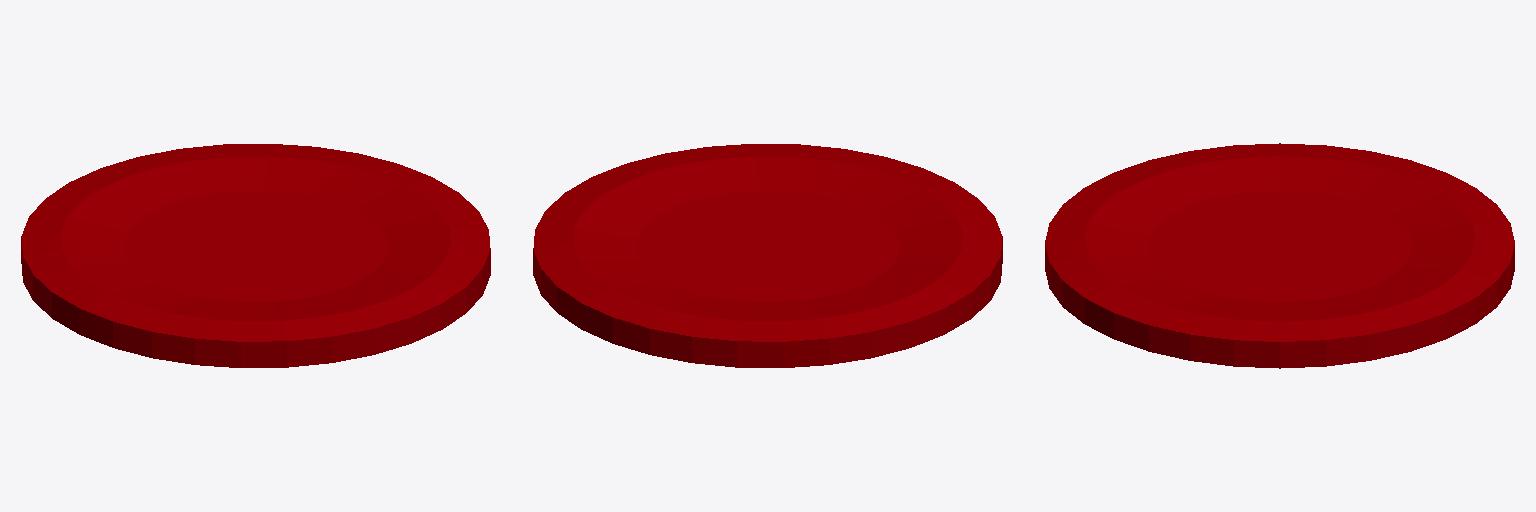
Rendered from rondelle.obj.
The picture shows the model from 3 angles: view 1: azimuth 30°, elevation 25°; view 2: azimuth 150°, elevation 25°; view 3: azimuth 270°, elevation 25°; orthographic projection.
Visible parts, largest first — view 1: Rondelle_Cylinder; view 2: Rondelle_Cylinder; view 3: Rondelle_Cylinder.
Boxes of the visible parts, <box> form: Rondelle_Cylinder: <box>21,144,490,367</box>; Rondelle_Cylinder: <box>533,144,1002,367</box>; Rondelle_Cylinder: <box>1045,143,1514,368</box>.
Size of the model in its own units: 10.02 by 0.8013 by 10.02.